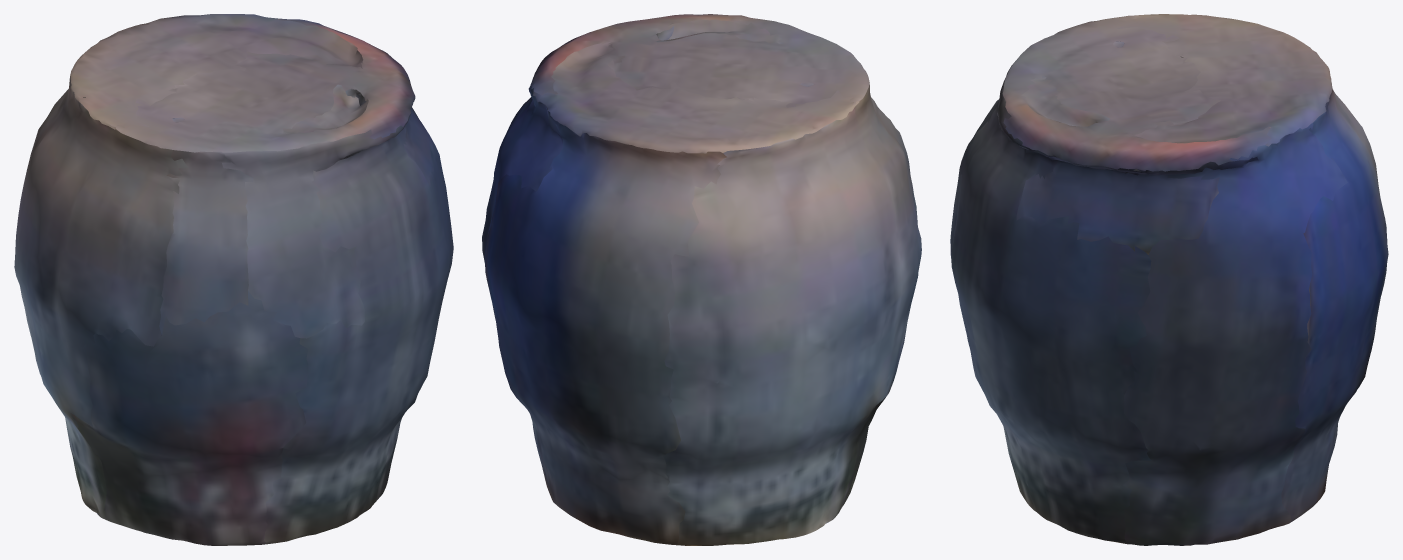
3 renders of one model, left to right at view 1: azimuth 30°, elevation 25°; view 2: azimuth 150°, elevation 25°; view 3: azimuth 270°, elevation 25°, orthographic.
Visible parts, largest first — view 1: world; view 2: world; view 3: world.
Boxes of the visible parts, x1=… form: world: x1=14, y1=14, x2=453, y2=545; world: x1=482, y1=14, x2=921, y2=545; world: x1=950, y1=14, x2=1388, y2=545.
Bounding box in the file's own units: 0.2237 × 0.2297 × 0.2233.
1 material, 1 textured.
